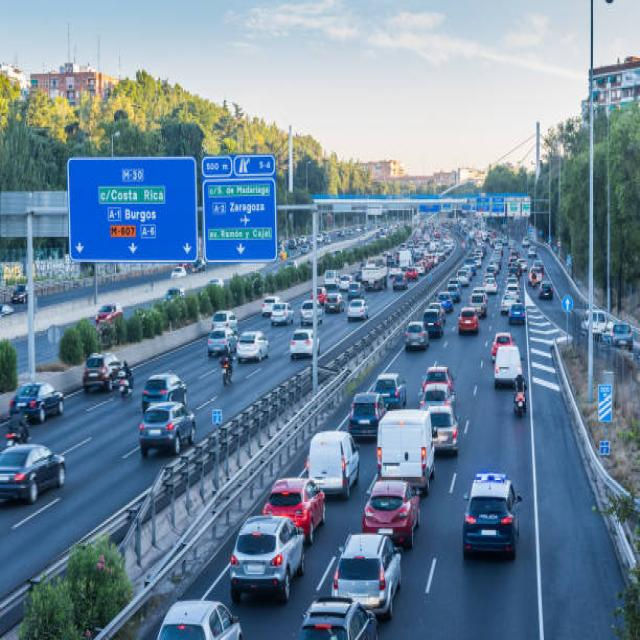Car: (0, 442, 66, 503), (154, 600, 242, 638), (8, 381, 64, 424), (94, 303, 122, 323), (10, 282, 28, 303)
Motorcycle: (512, 373, 527, 418), (219, 354, 233, 386)
Police-car: (461, 471, 522, 560)
Traffic-sign: (66, 154, 198, 264)
Truck: (375, 408, 435, 494)
